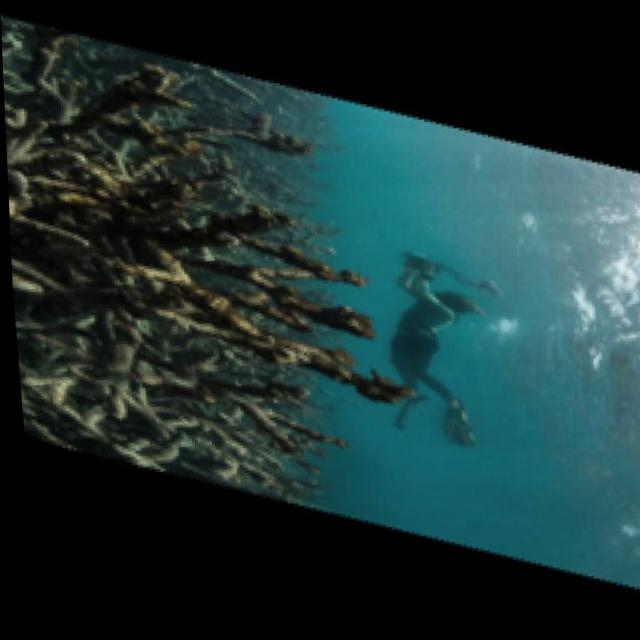Dead Coral: (2, 30, 387, 515)
